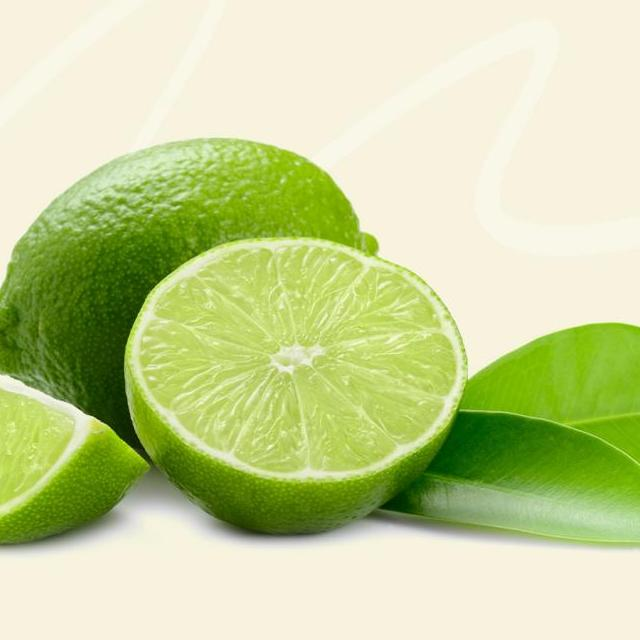lime: (0, 128, 393, 459)
